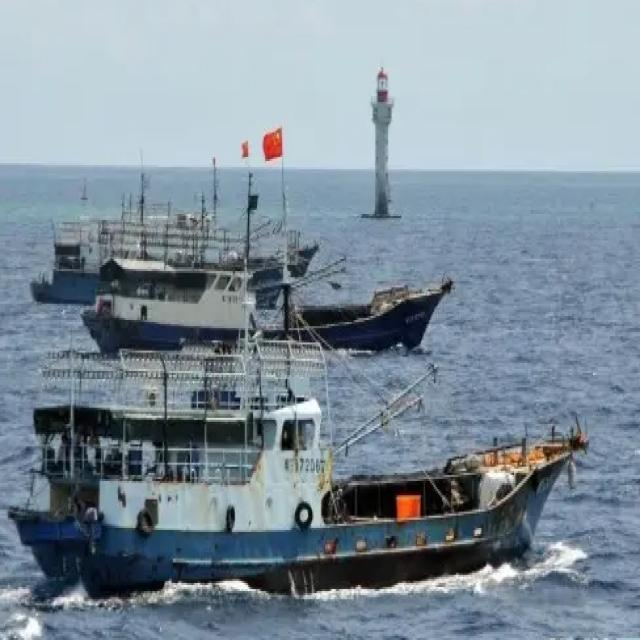fishing boat: (17, 345, 576, 581), (89, 221, 456, 349), (40, 175, 314, 302)
